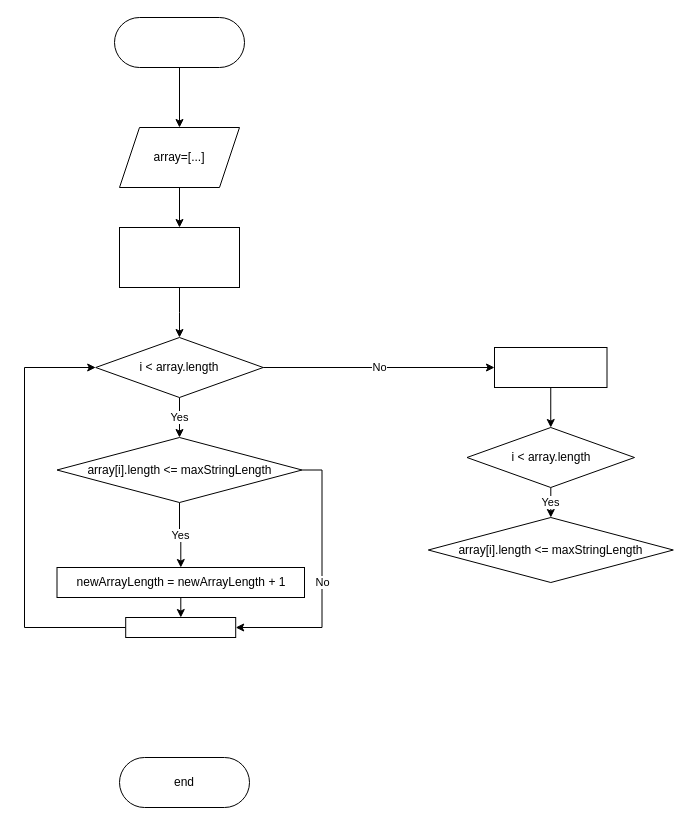
This 691x825 diagram has some shape labels left out. The centre of each missing label's shape, as x and y in pixels:
i = 0 result = new: the point at 550,367
i = i + 1: the point at 180,627
newArrayLength = 0 maxStringLength = 3 i = 0: the point at 179,257
start: the point at 179,42
